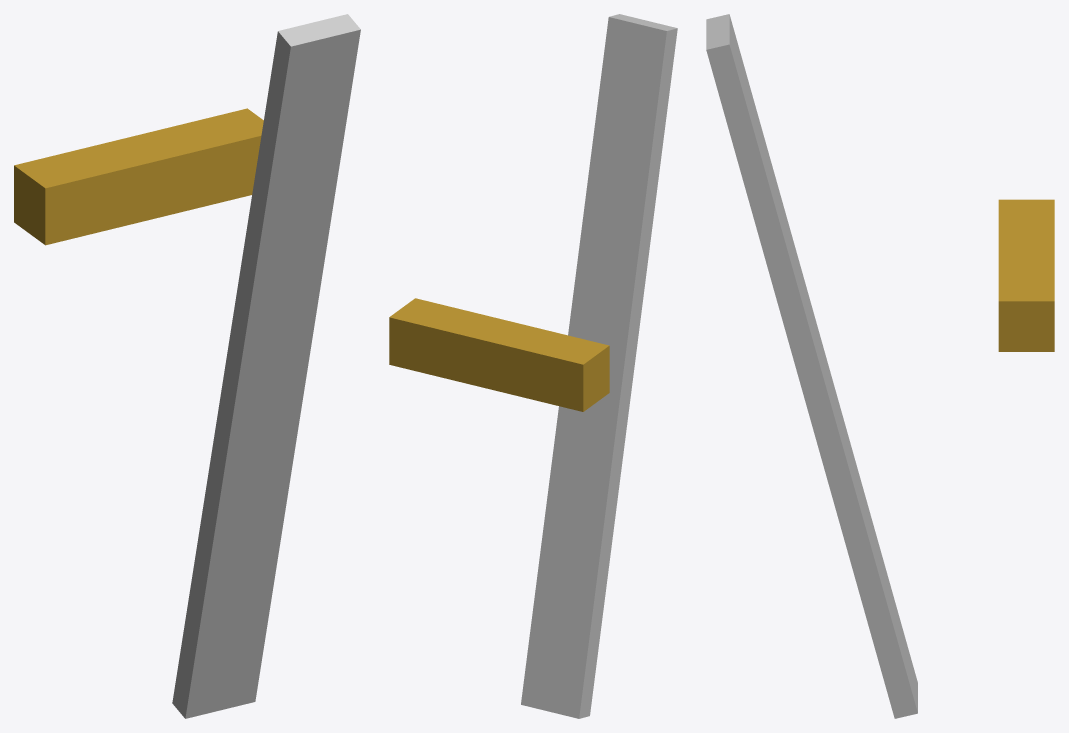
The model's file is knight_sword.glb.
3 views of the same model, side by side, from view 1: azimuth 30°, elevation 25°; view 2: azimuth 150°, elevation 25°; view 3: azimuth 270°, elevation 25° (orthographic). The views are drawn at different scales.
Visible parts, largest first — view 1: knight_sword; view 2: knight_sword; view 3: knight_sword.
Boxes of the visible parts, x1=… form: knight_sword: x1=14, y1=14, x2=360, y2=718; knight_sword: x1=389, y1=14, x2=677, y2=718; knight_sword: x1=706, y1=14, x2=1054, y2=718.
Size of the model in its own units: 0.06 by 0.1856 by 0.0869.
